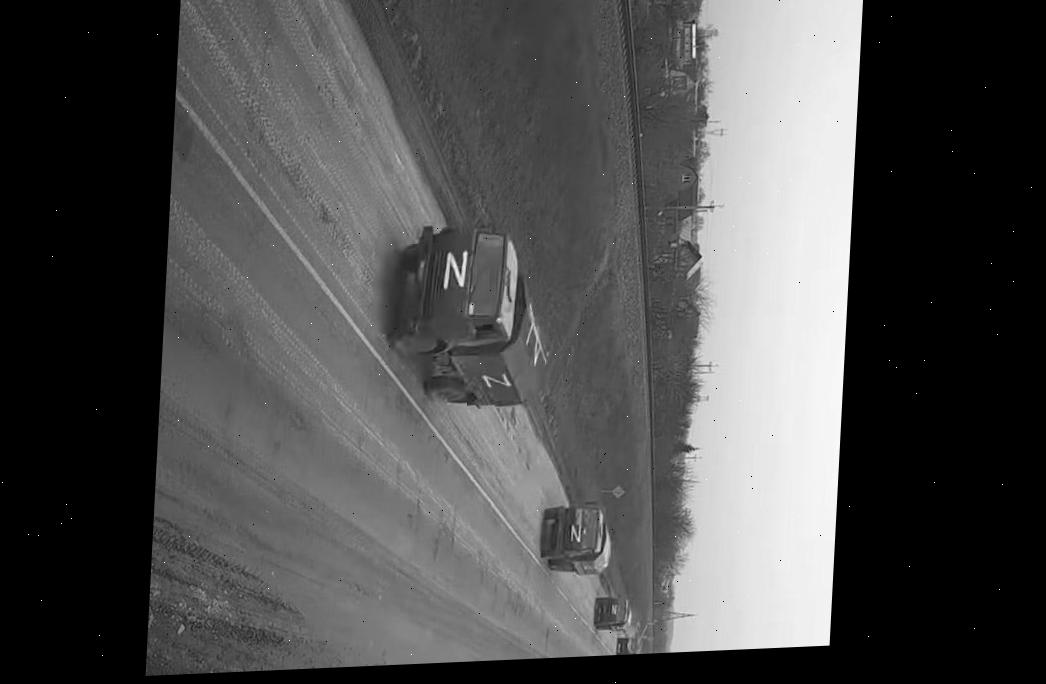truck: (370, 217, 555, 421), (533, 500, 618, 578), (594, 592, 637, 635), (611, 632, 645, 655)
